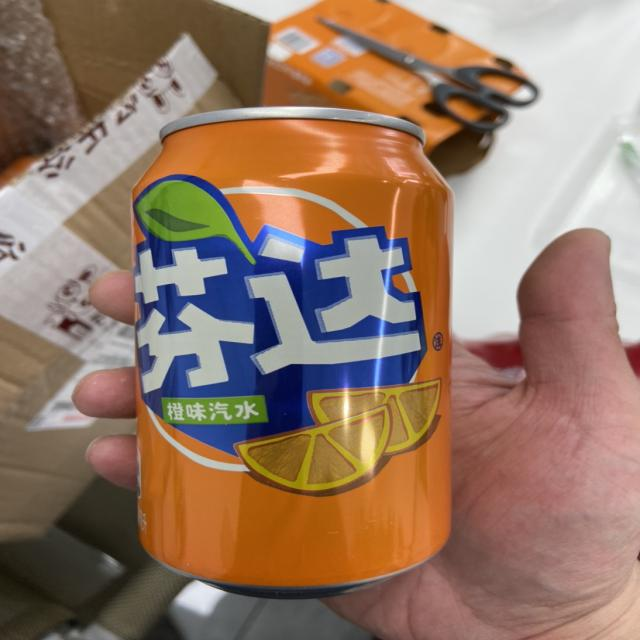can: (132, 105, 461, 603)
